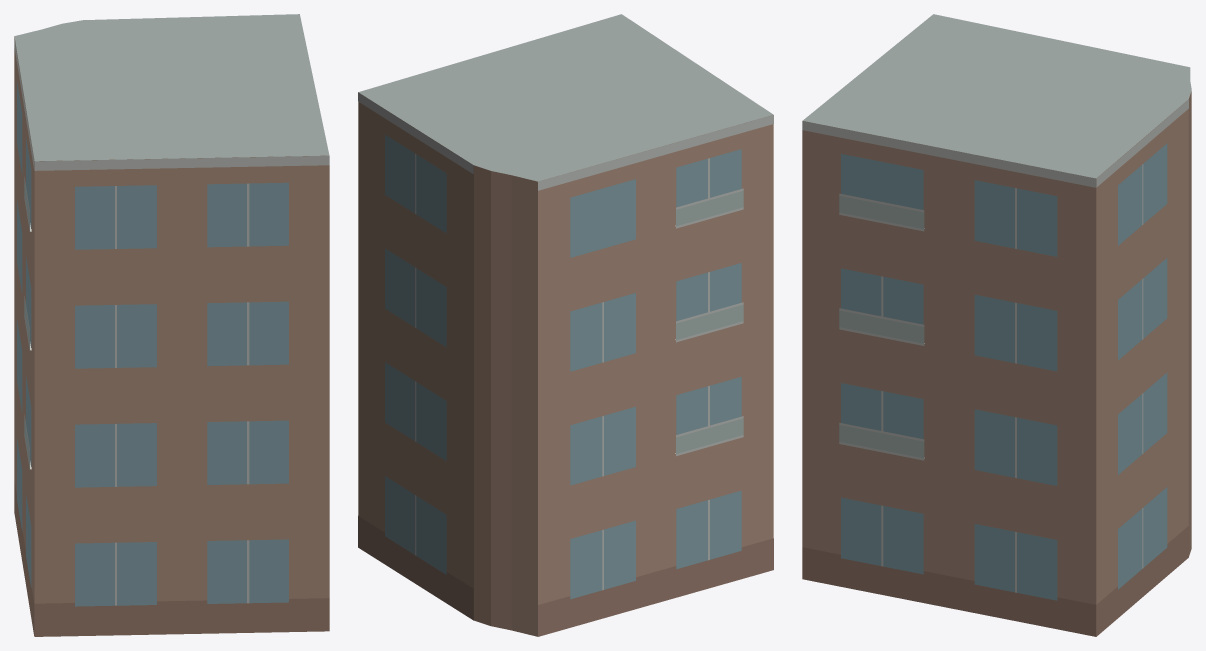
File: survey-upis-32727865.glb
3 views of the same model, side by side, from view 1: azimuth 30°, elevation 25°; view 2: azimuth 150°, elevation 25°; view 3: azimuth 270°, elevation 25° (orthographic). The views are drawn at different scales.
Visible parts, largest first — view 1: survey-upis-32727865.tmp; view 2: survey-upis-32727865.tmp; view 3: survey-upis-32727865.tmp.
Boxes of the visible parts, x1,y1,x2,y2 form: survey-upis-32727865.tmp: [14, 14, 329, 636]; survey-upis-32727865.tmp: [358, 14, 773, 636]; survey-upis-32727865.tmp: [802, 14, 1191, 636].
Size of the model in its own units: 9.24 by 12 by 9.24.
